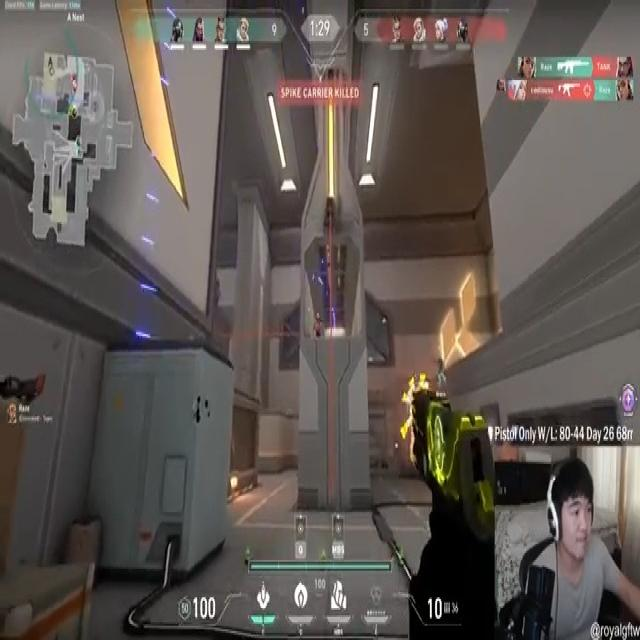enemy: (310, 311, 325, 338)
